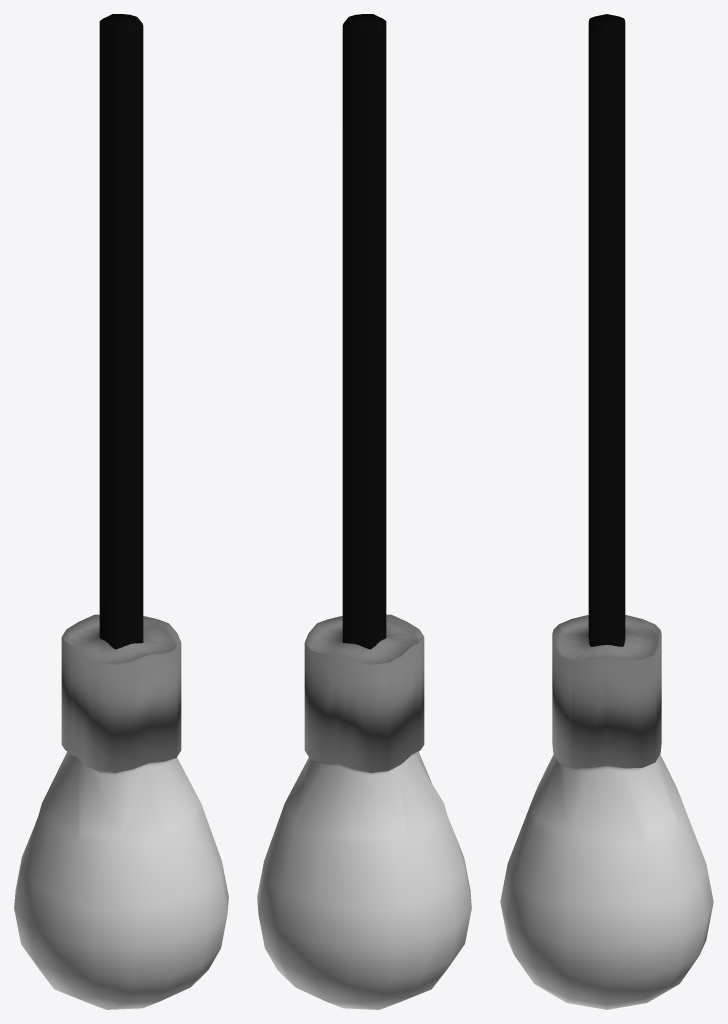
Rendered from LightBulb.fbx.
3 renders of one model, left to right at view 1: azimuth 30°, elevation 25°; view 2: azimuth 150°, elevation 25°; view 3: azimuth 270°, elevation 25°, orthographic.
Parts seen in each view (by area): view 1: Light Buld; view 2: Light Buld; view 3: Light Buld.
Part boxes in pixels (<box>): Light Buld: <box>14,14,228,1009</box>; Light Buld: <box>257,14,471,1009</box>; Light Buld: <box>500,14,713,1009</box>.
Bounding box in the file's own units: 33.57 × 170 × 33.57.
